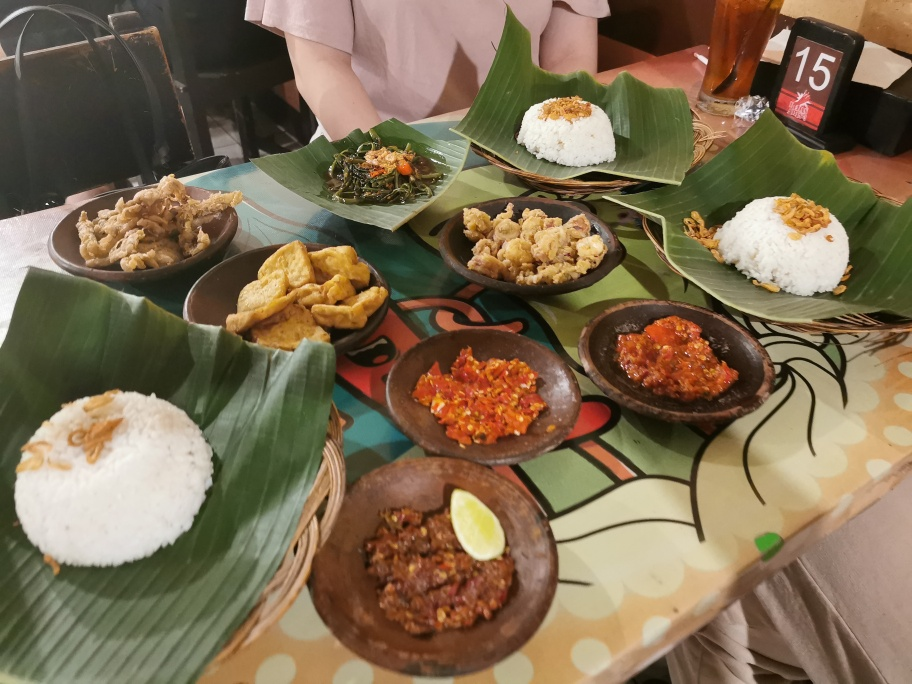nasi putih: (13, 391, 218, 566), (711, 191, 854, 300), (516, 93, 618, 167)
